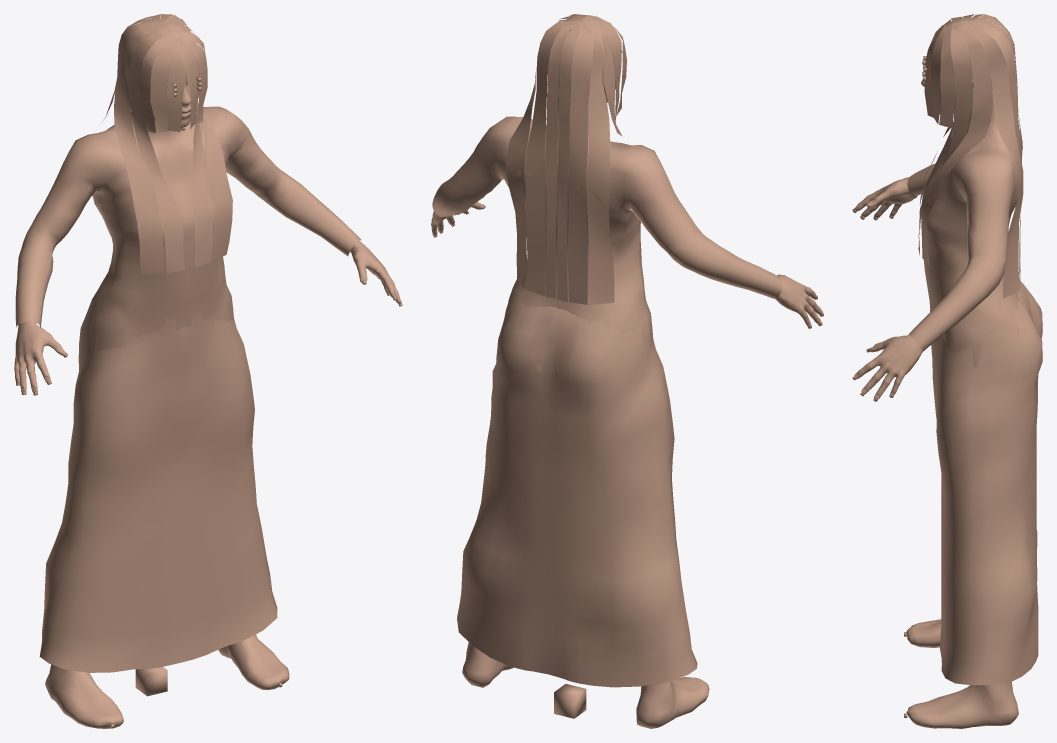
Rendered from 2046-People-base-body-MakeHuman-base-mesh-with-helper-geometry.glb.
3 renders of one model, left to right at view 1: azimuth 30°, elevation 25°; view 2: azimuth 150°, elevation 25°; view 3: azimuth 270°, elevation 25°, orthographic.
Parts seen in each view (by area): view 1: People: base body/MakeHuman base mesh/with helper geometry; view 2: People: base body/MakeHuman base mesh/with helper geometry; view 3: People: base body/MakeHuman base mesh/with helper geometry.
Boxes of the visible parts, x1,y1,x2,y2 form: People: base body/MakeHuman base mesh/with helper geometry: (14,14,402,728); People: base body/MakeHuman base mesh/with helper geometry: (431,14,823,728); People: base body/MakeHuman base mesh/with helper geometry: (852,14,1042,728).
Bounding box in the file's own units: 0.9946 × 1.69 × 0.436.
